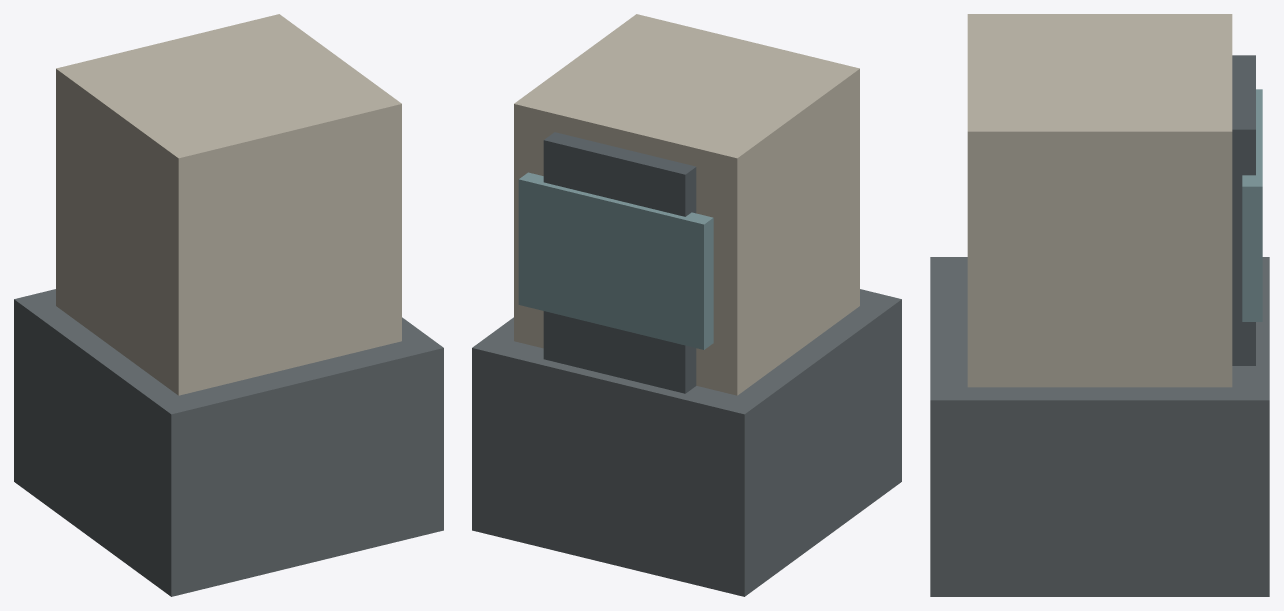
The model's file is iz3_environment_hydrant_01.glb.
The picture shows the model from 3 angles, left to right: view 1: azimuth 30°, elevation 25°; view 2: azimuth 150°, elevation 25°; view 3: azimuth 270°, elevation 25°; orthographic projection. The views are drawn at different scales.
Parts seen in each view (by area): view 1: cabinet, base; view 2: base, cabinet, display, panel; view 3: cabinet, base, panel, display.
Boxes of the visible parts, left/top/right/bottom form: cabinet: left=56, top=14, right=401, bottom=395; base: left=14, top=289, right=443, bottom=596; base: left=472, top=289, right=901, bottom=596; cabinet: left=514, top=14, right=859, bottom=395; display: left=518, top=172, right=713, bottom=349; panel: left=543, top=132, right=696, bottom=393; cabinet: left=967, top=14, right=1232, bottom=387; base: left=930, top=257, right=1269, bottom=596; panel: left=1232, top=55, right=1255, bottom=365; display: left=1242, top=89, right=1262, bottom=321.
Bounding box in the file's own units: 0.5 × 0.736 × 0.5.
